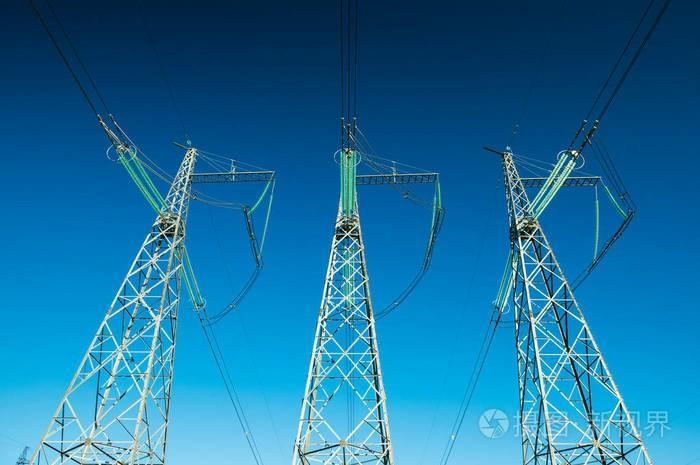power_tower: (21, 137, 284, 465), (470, 140, 651, 465), (287, 138, 451, 465)
